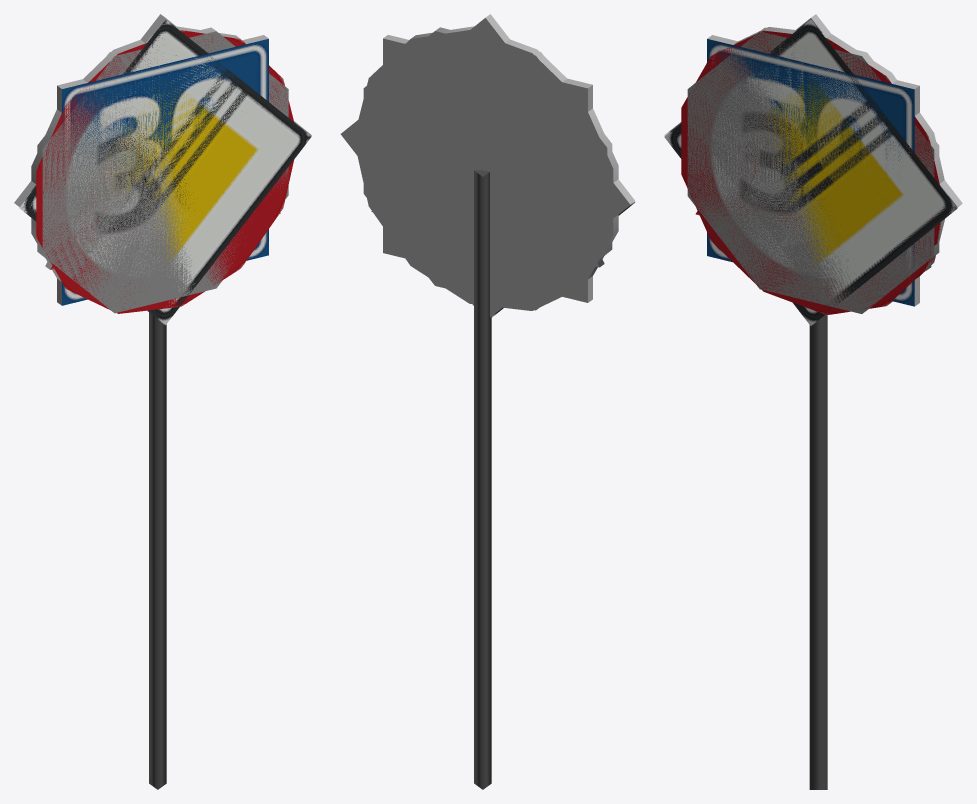
The model's file is Verkeersborden.FBX.
The picture shows the model from 3 angles, left to right: view 1: azimuth 30°, elevation 25°; view 2: azimuth 150°, elevation 25°; view 3: azimuth 330°, elevation 25°; orthographic projection.
Parts seen in each view (by area): view 1: B7, B2, B1, A4-30, A1-30, Paaltje, A4-050, A1-050, Bord; view 2: Bord (×4), Paaltje; view 3: B7, B2, B1, A1-30, A4-30, Paaltje, A4-050, A1-050, Bord (×2), B3.
Part boxes in pixels (x1,y1,x2,y2): B7: (42, 31, 288, 313); B2: (19, 20, 311, 325); B1: (21, 19, 304, 310); A4-30: (62, 39, 268, 305); A1-30: (36, 30, 293, 313); Paaltje: (149, 312, 166, 789); A4-050: (62, 43, 262, 305); A1-050: (41, 31, 279, 308); Bord: (31, 26, 283, 281); Bord (×4): (340, 14, 634, 317); Paaltje: (474, 170, 491, 789); B7: (687, 31, 934, 313); B2: (664, 19, 957, 325); B1: (667, 25, 957, 321); A1-30: (681, 30, 940, 314); A4-30: (707, 39, 914, 306); Paaltje: (809, 315, 827, 789); A4-050: (707, 39, 911, 301); A1-050: (681, 42, 940, 262); Bord (×2): (707, 27, 948, 315); B3: (695, 132, 926, 270).
Bounding box in the file's own units: 38.97 × 98.4 × 2.79.
16 materials, 13 textured.
